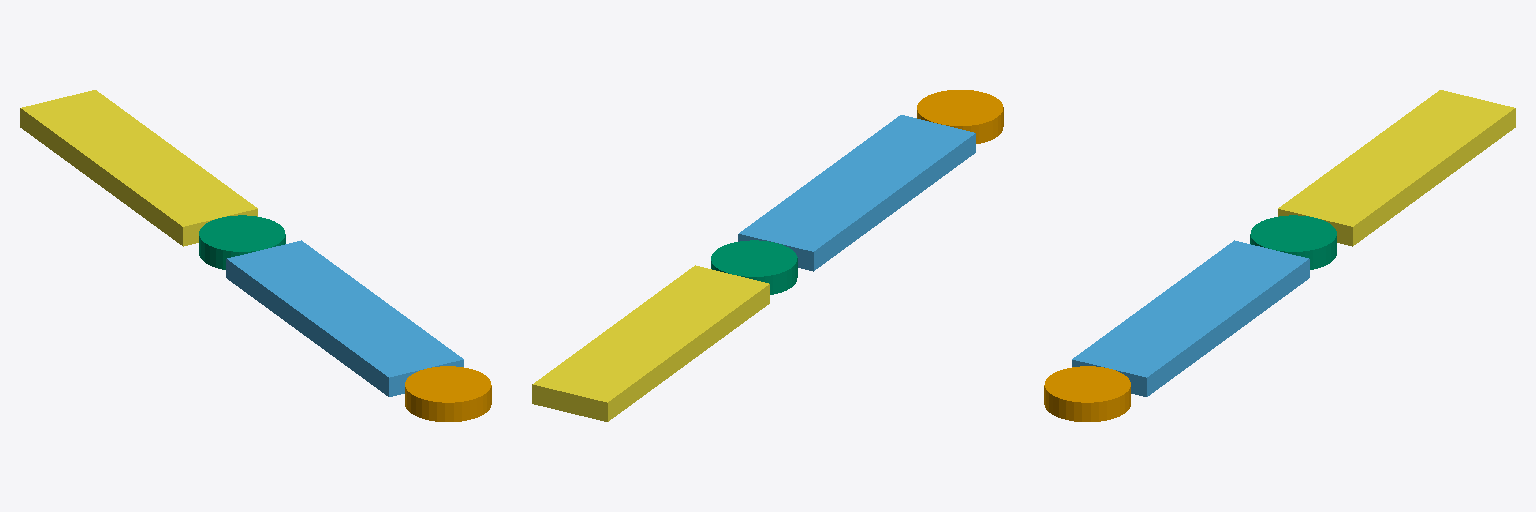
URDF robot description (2dof_manip):
<?xml version="1.0"?>
<robot name="2dof_manip">
 <link name="jlink1">
  <inertial>
    <mass value="1"/>
    <inertia ixx="0.0108333333333" ixy="0" ixz="0" iyy="0.0108333333333" iyz="0" izz="0.01"/>
  </inertial>
  <visual>
    <origin rpy="0 0 1.57" xyz="0 0 0"/>
    <geometry>
      <cylinder length="0.1" radius="0.2"/>
    </geometry>
  </visual>
  <collision>
    <origin rpy="0 0 1.57" xyz="0 0 0"/>
    <geometry>
      <cylinder length="0.1" radius="0.2"/>
    </geometry>
  </collision>
 </link>

 <link name="link1">
  <inertial>
    <mass value="1"/>
    <inertia ixx="0.0141666666667" ixy="0" ixz="0" iyy="0.200833333333" iyz="0" izz="0.188333333333"/>
  </inertial>
  <visual>
    <origin rpy="0 0 0" xyz="0 0.95 0"/>
    <geometry>
      <box size="0.4 1.5 0.1"/>
    </geometry>
  </visual>
  <collision>
    <origin rpy="0 0 0" xyz="0 0.95 0"/>
    <geometry>
      <box size="0.4 1.5 0.1"/>
    </geometry>
  </collision>
 </link>

 <link name="jlink2">
  <inertial>
    <mass value="1"/>
    <inertia ixx="0.0108333333333" ixy="0" ixz="0" iyy="0.0108333333333" iyz="0" izz="0.01"/>
  </inertial>
  <visual>
    <origin rpy="0 0 1.57" xyz="0 1.9 0"/>
    <geometry>
      <cylinder length="0.1" radius="0.2"/>
    </geometry>
  </visual>
  <collision>
    <origin rpy="0 0 1.57" xyz="0 1.9 0"/>
    <geometry>
      <cylinder length="0.1" radius="0.2"/>
    </geometry>
  </collision>
 </link>

 <link name="link2">
  <inertial>
    <mass value="1"/>
    <inertia ixx="0.0141666666667" ixy="0" ixz="0" iyy="0.200833333308" iyz="0" izz="0.188333333308"/>
  </inertial>
  <visual>
    <origin rpy="0 0 0" xyz="0 0.95 0"/>
    <geometry>
      <box size="0.4 1.4999999999 0.1"/>
    </geometry>
  </visual>
  <collision>
    <origin rpy="0 0 0" xyz="0 0.95 0"/>
    <geometry>
      <box size="0.4 1.4999999999 0.1"/>
    </geometry>
  </collision>
 </link>

<joint name="joint_jlink1_link1_Z" type="revolute">
  <origin rpy="0 0 0" xyz="0 0 0"/>
  <parent link="jlink1"/>
  <child link="link1"/>
  <axis xyz="0 0 1"/>
  <dynamics damping="0.01" friction="0.5"/>
  <limit lower="-3.14" upper="3.14" effort="0.01" velocity="100"/>
</joint>

<joint name="joint_link1_jlink2" type="fixed">
  <origin rpy="0 0 0" xyz="0 0 0"/>
  <parent link="link1"/>
  <child link="jlink2"/>
</joint>

<joint name="joint_jlink2_link2_Z" type="revolute">
  <origin rpy="0 0 0" xyz="0 1.9 0"/>
  <parent link="jlink2"/>
  <child link="link2"/>
  <axis xyz="0 0 1"/>
  <dynamics damping="0.01" friction="0.5"/>
  <limit lower="-3.14" upper="3.14" effort="0.01" velocity="100"/>
</joint>

  <klampt package_root="../../.." default_acc_max="4" >
  </klampt>
</robot>

--- Facts derived from the render (not from the file) ---
Views: 3 orthographic renders of the robot side by side, from view 1: azimuth 30°, elevation 25°; view 2: azimuth 150°, elevation 25°; view 3: azimuth 330°, elevation 25°.
Model 2dof_manip with 4 links and 3 joints (2 revolute, 1 fixed), rooted at jlink1, posed all joints at 0.
Visible links, largest first — view 1: link1, link2, jlink1, jlink2; view 2: link2, link1, jlink2, jlink1; view 3: link1, link2, jlink1, jlink2.
Link boxes in pixels (x1,y1,x2,y2): link1: [226, 240, 463, 396]; link2: [20, 90, 257, 246]; jlink1: [405, 366, 491, 421]; jlink2: [199, 215, 285, 269]; link2: [532, 265, 769, 421]; link1: [738, 115, 975, 271]; jlink2: [711, 240, 797, 294]; jlink1: [917, 90, 1003, 143]; link1: [1072, 240, 1309, 396]; link2: [1278, 90, 1515, 246]; jlink1: [1044, 366, 1130, 421]; jlink2: [1250, 215, 1336, 269].
Size in the robot's own frame: 0.4 by 3.8 by 0.1 metres.
Geometry: primitives only (box / cylinder / sphere), no mesh files.